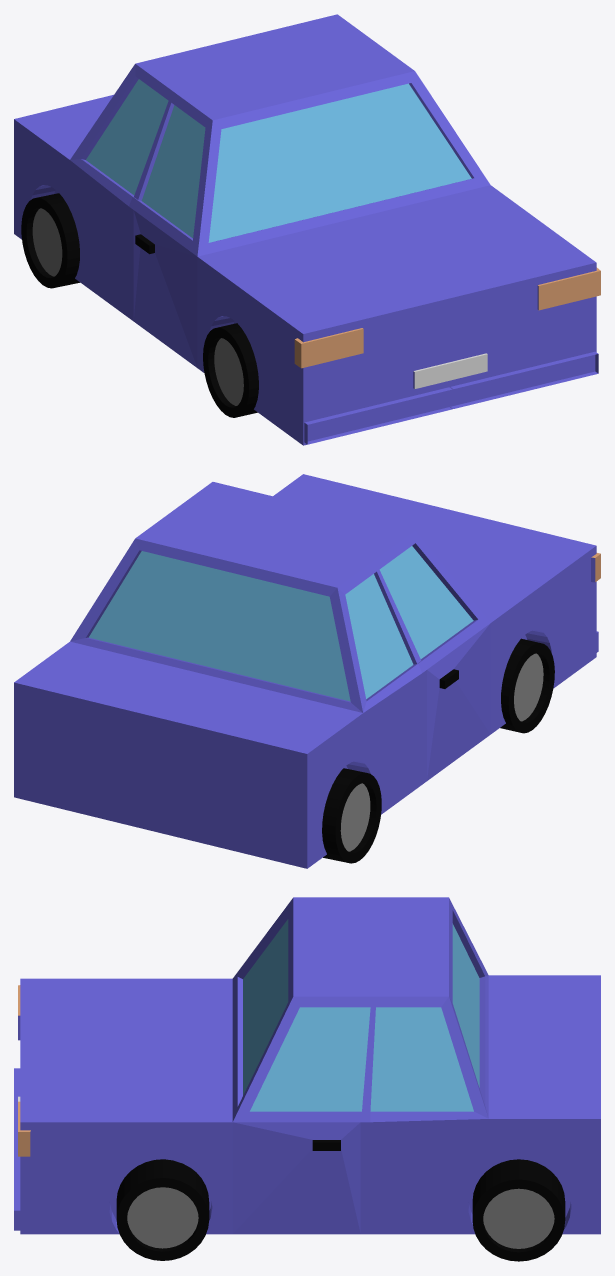
Rendered from car2.glb.
The picture shows the model from 3 angles, top to bottom: view 1: azimuth 30°, elevation 25°; view 2: azimuth 150°, elevation 25°; view 3: azimuth 270°, elevation 25°; orthographic projection.
Parts seen in each view (by area): view 1: Cube; view 2: Cube; view 3: Cube.
Part boxes in pixels (x1,y1,x2,y2): Cube: (14,14,600,445); Cube: (14,474,600,868); Cube: (14,897,600,1261).
Size of the model in its own units: 3.07 by 2.17 by 4.87.
